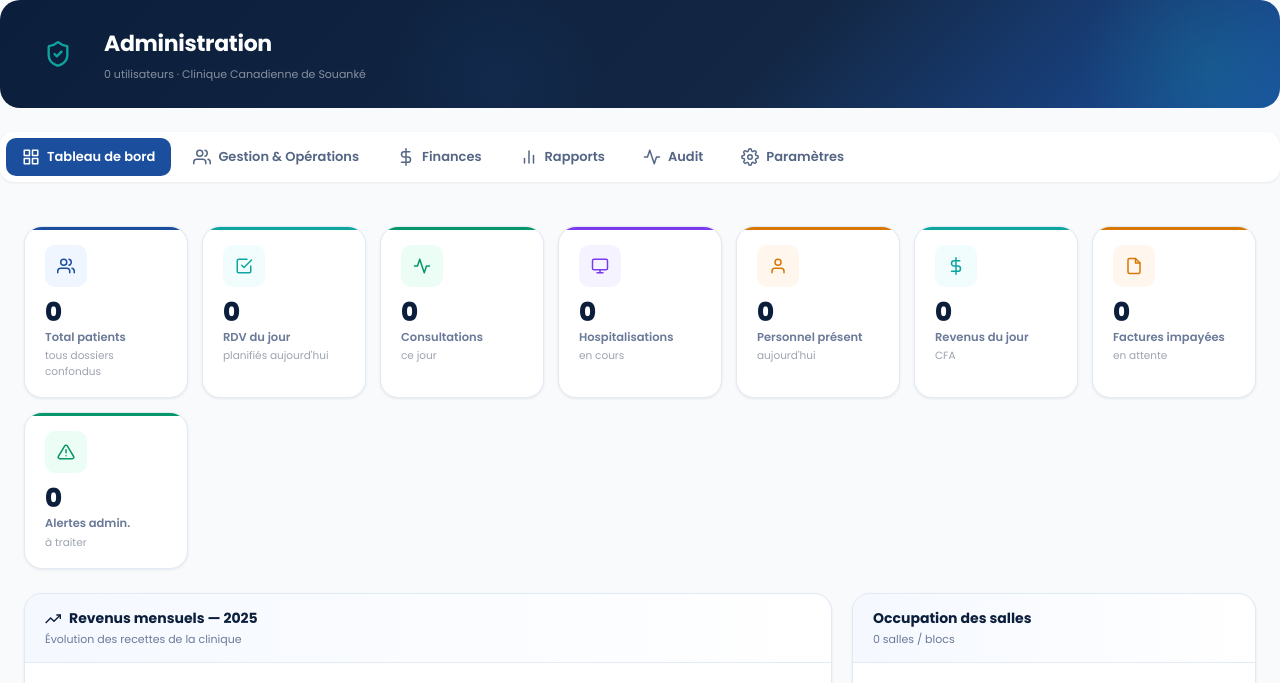
Scenario: POST5-014 — "Voir" affiche les vraies données du fournisseur, jamais un clic sans effet
What coordinates should you click on to do the following:
click the button "Gestion & Opérations"
I would click on:
 (276, 157)
Its box is left=177, top=138, right=375, bottom=176.
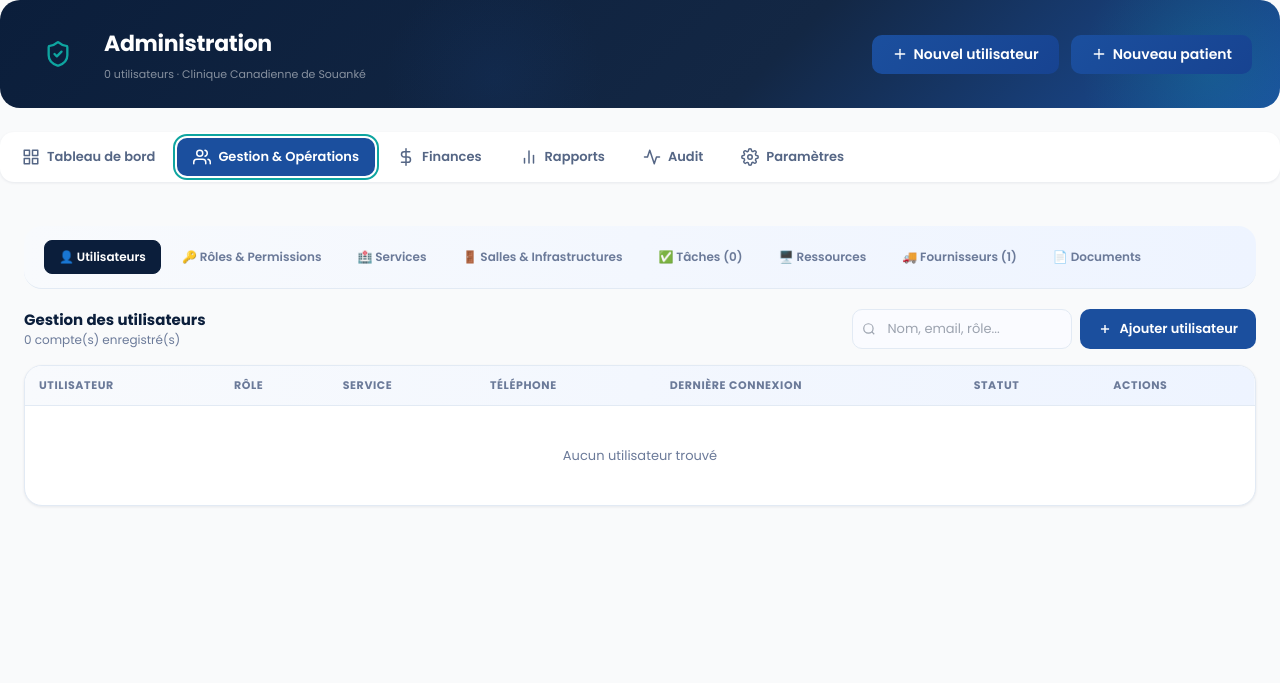
What coordinates should you click on to do the following:
click the button "🚚 Fournisseurs (1)"
I would click on:
 (960, 256)
Its box is left=887, top=240, right=1032, bottom=274.
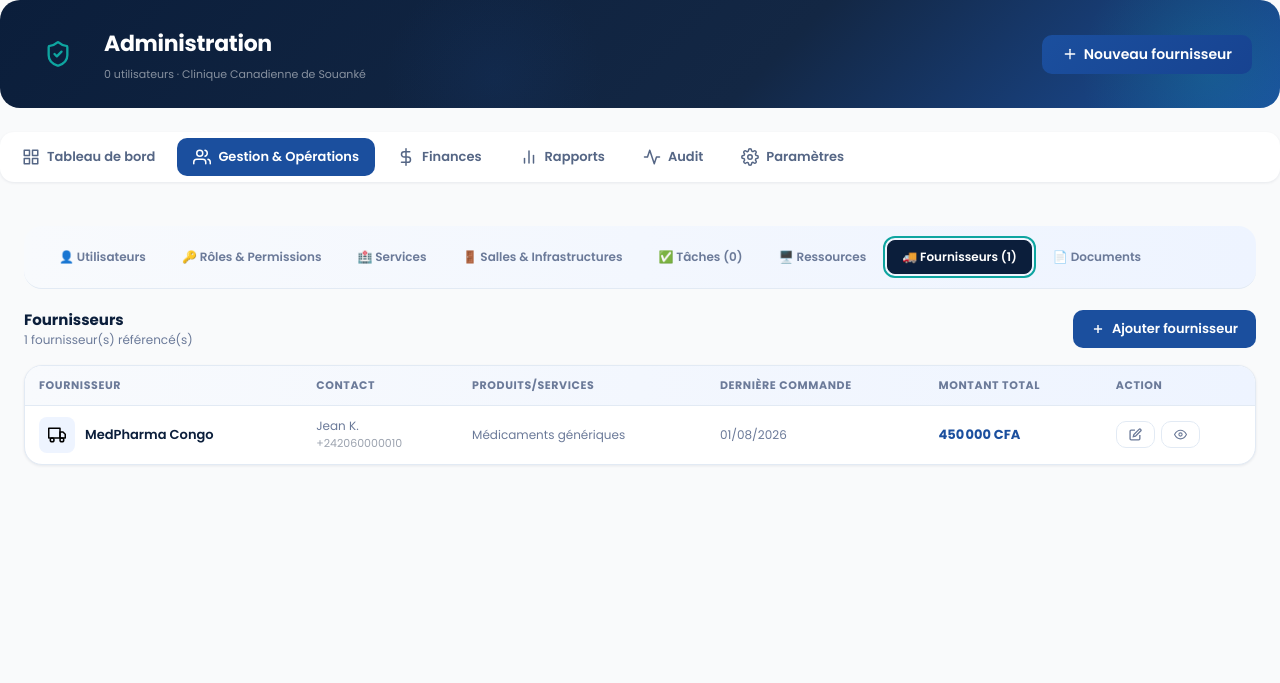
What coordinates should you click on to do the following:
click the button named "Voir"
I would click on:
 (1180, 434)
Its box is left=1161, top=421, right=1200, bottom=448.
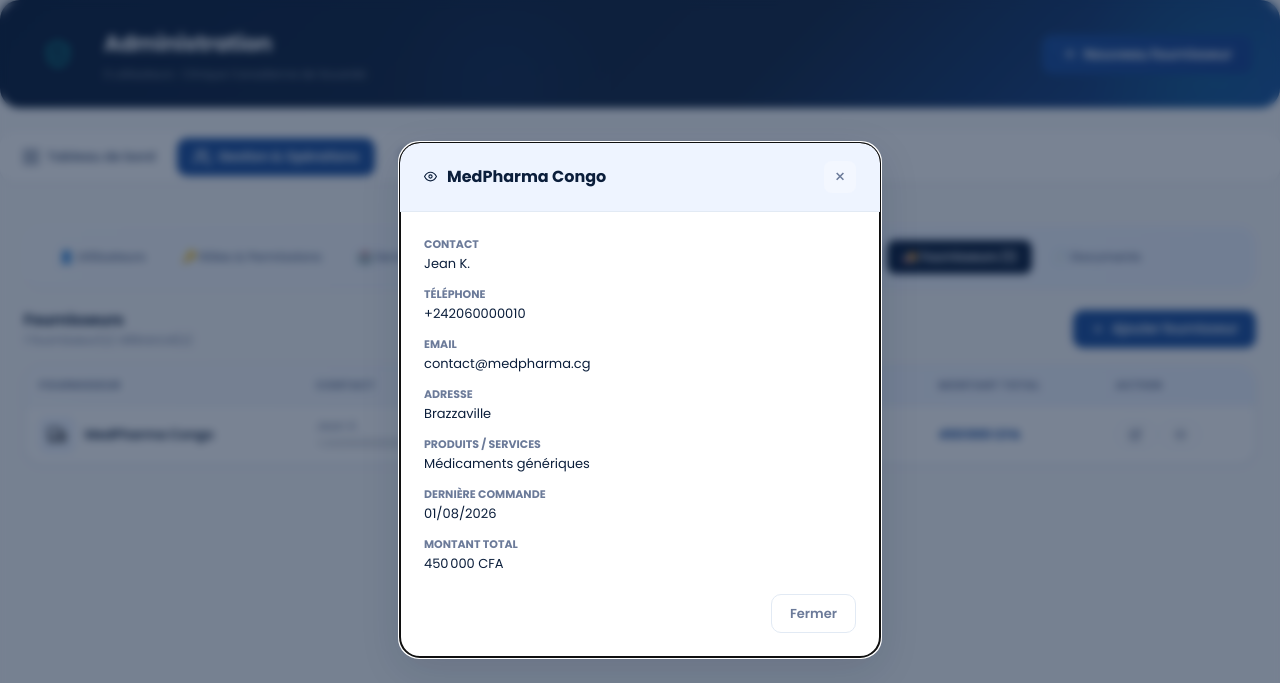
expect the text "Jean K." is shown: met, box left=424, top=254, right=470, bottom=273
expect the text "+242060000010" is shown: met, box left=424, top=304, right=526, bottom=323
expect the text "Médicaments génériques" is shown: met, box left=424, top=454, right=590, bottom=473
